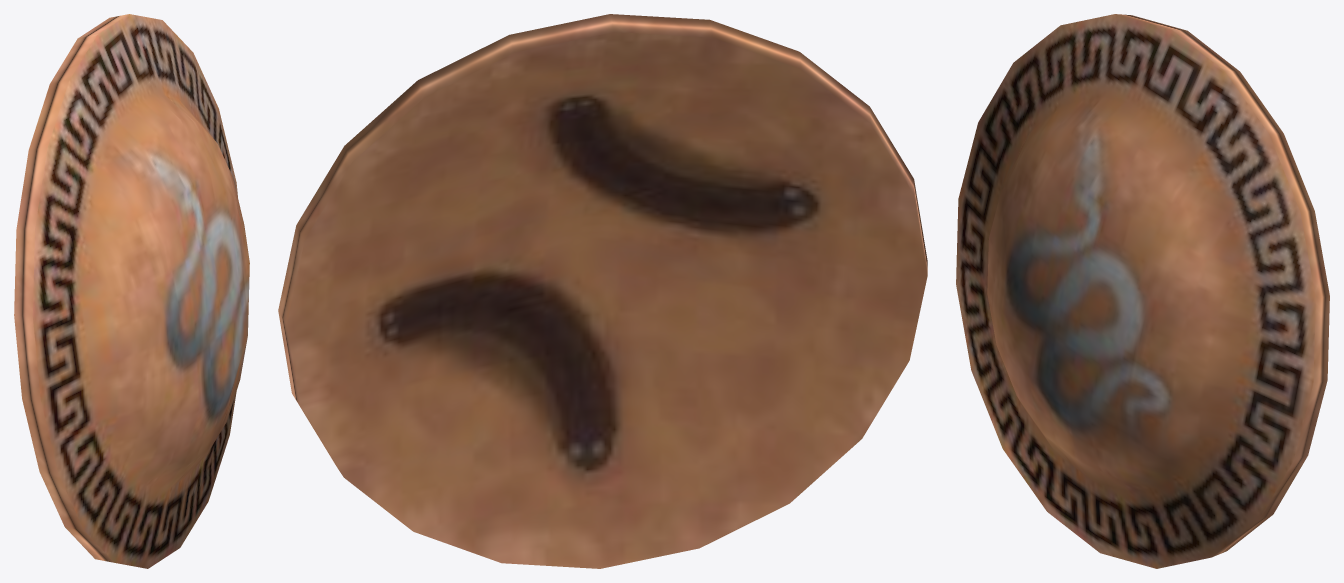
Rendered from shield-ironshields.glb.
3 views of the same model, side by side, from view 1: azimuth 30°, elevation 25°; view 2: azimuth 150°, elevation 25°; view 3: azimuth 270°, elevation 25° (orthographic). The views are drawn at different scales.
Bounding box in the file's own units: 0.4422 × 0.5513 × 0.3736.
Materials: 1 (1 with a texture image).
